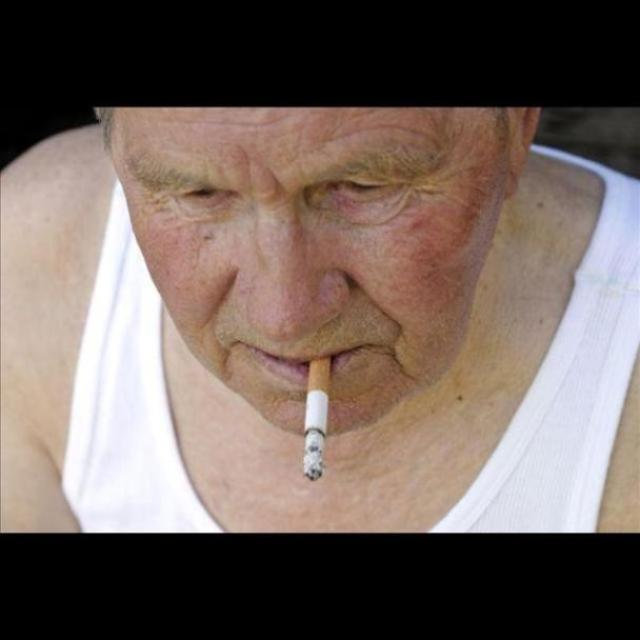rokok: (290, 353, 336, 489)
